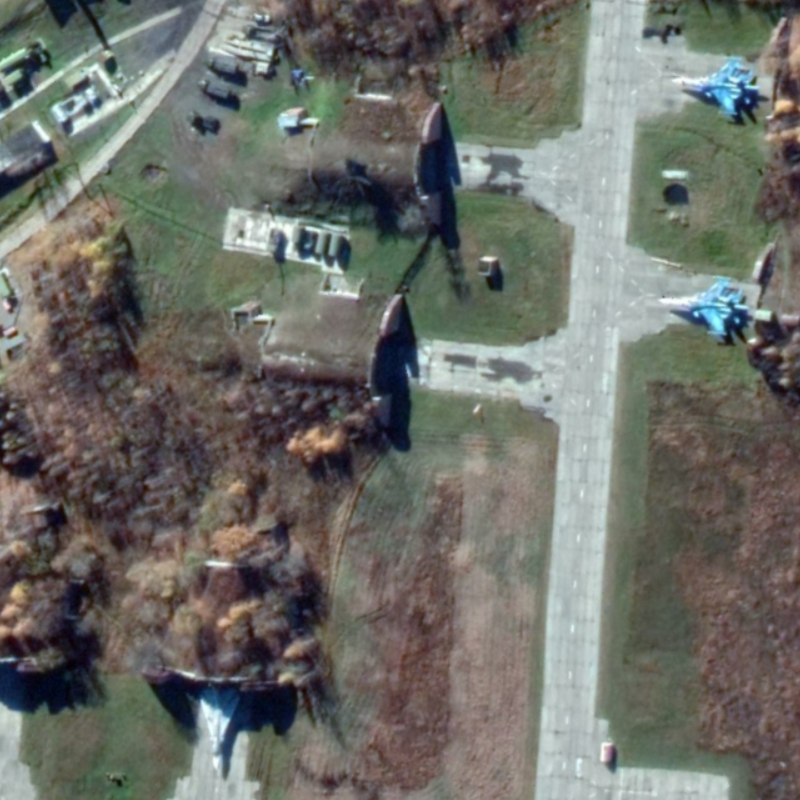A19: (656, 274, 750, 338), (668, 54, 762, 117)
A20: (196, 684, 243, 774)
